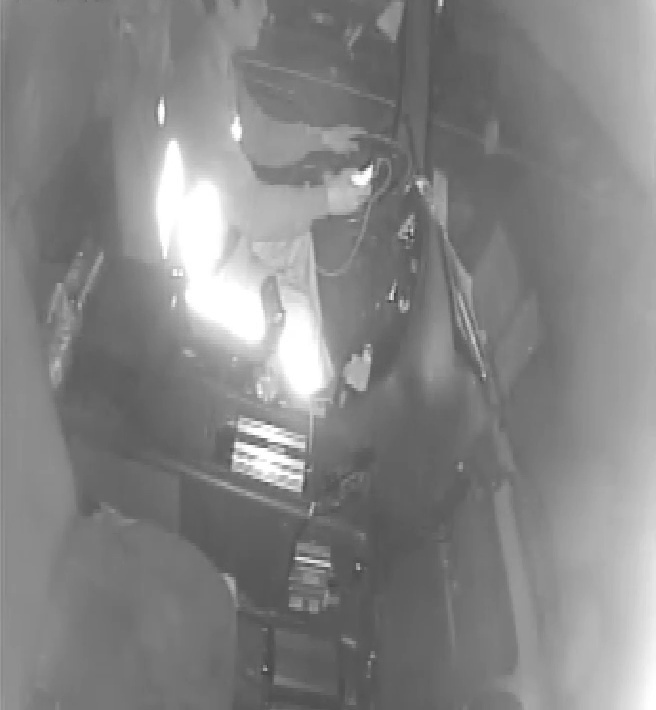cellphone: (336, 160, 380, 194)
